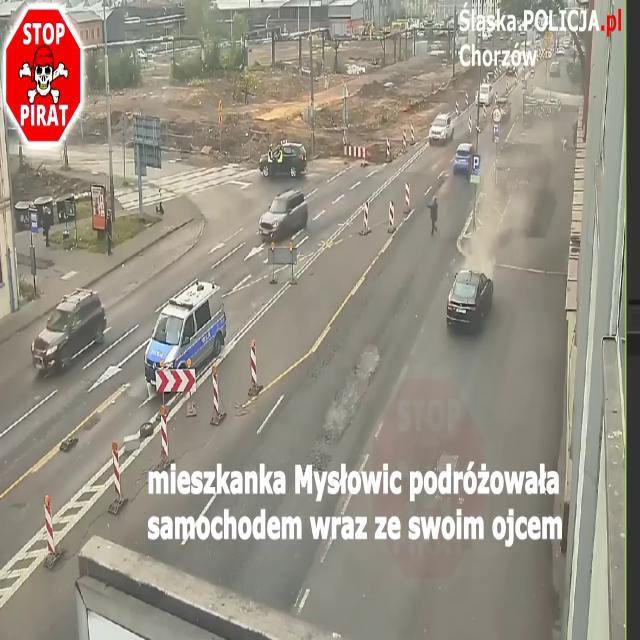Smoke: (456, 111, 576, 261)
